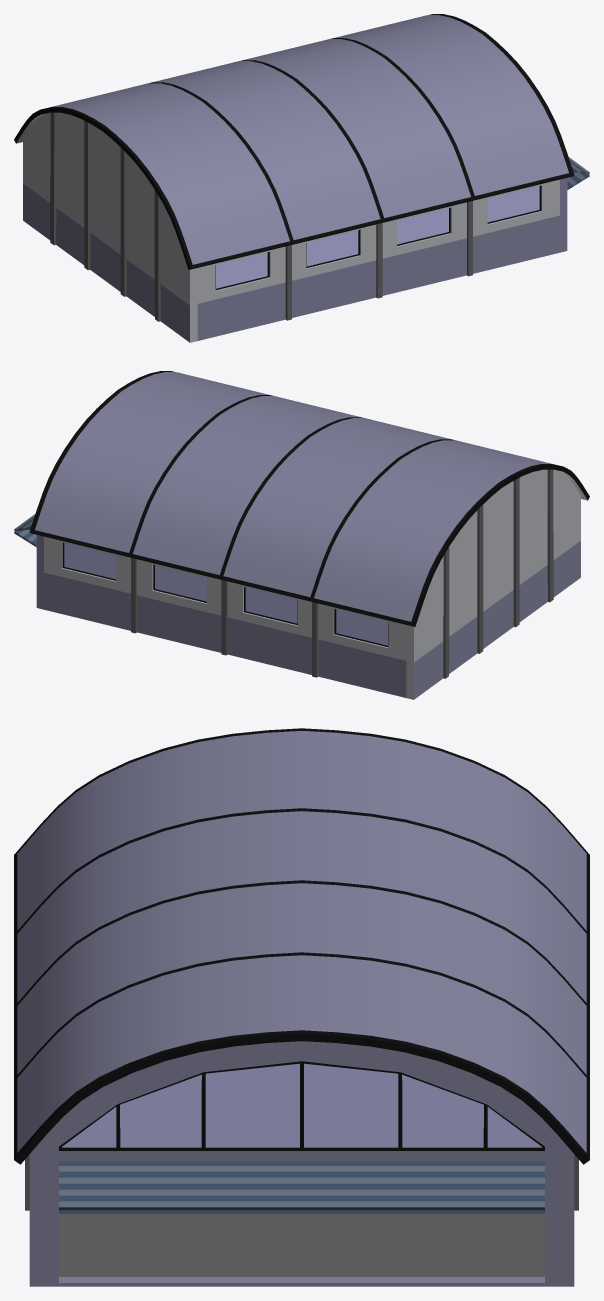
File: 04_Hangar_AIRPORT_0.obj
3 views of the same model, one above another, from view 1: azimuth 30°, elevation 25°; view 2: azimuth 150°, elevation 25°; view 3: azimuth 270°, elevation 25° (orthographic). The views are drawn at different scales.
Parts seen in each view (by area): view 1: 04.Hangar_AIRPORT_0; view 2: 04.Hangar_AIRPORT_0; view 3: 04.Hangar_AIRPORT_0.
Part boxes in pixels (box(x1,y1,x2,y2)): 04.Hangar_AIRPORT_0: box(14, 14, 589, 342); 04.Hangar_AIRPORT_0: box(14, 371, 589, 699); 04.Hangar_AIRPORT_0: box(14, 728, 589, 1286).
Bounding box in the file's own units: 68.2 × 24.66 × 50.5.
1 material, 1 textured.
